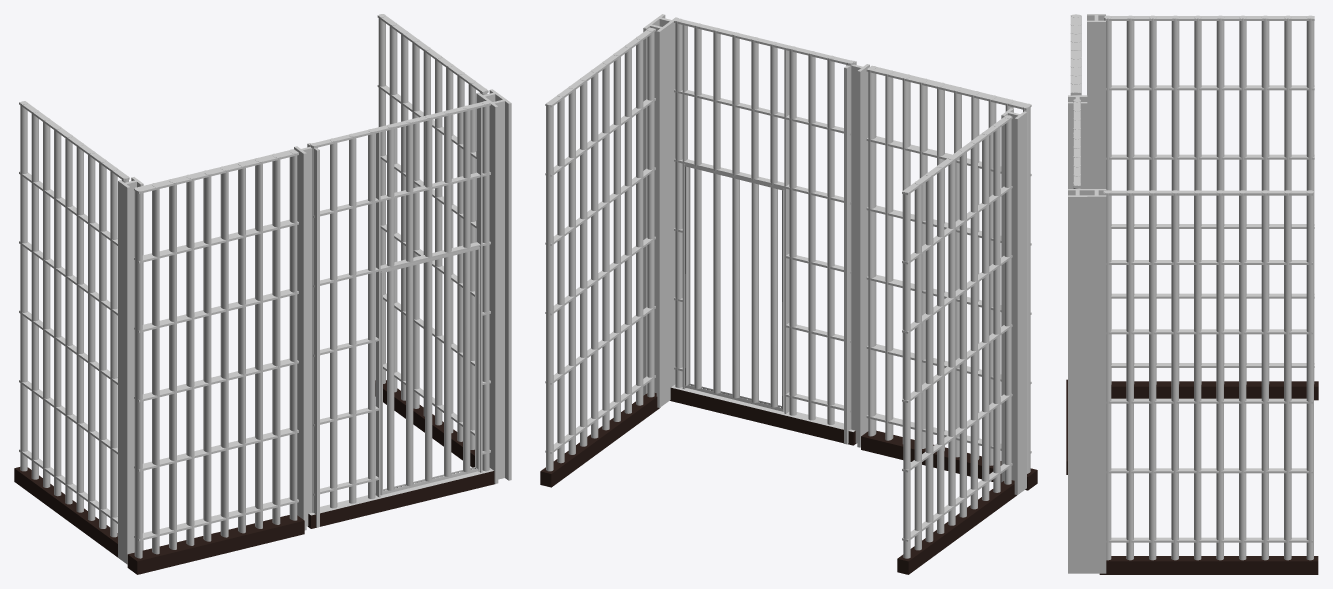
The model's file is Animated Final Door.fbx.
3 views of the same model, side by side, from view 1: azimuth 30°, elevation 25°; view 2: azimuth 150°, elevation 25°; view 3: azimuth 270°, elevation 25° (orthographic).
Parts seen in each view (by area): view 1: Bars, Cylinder.018; view 2: Bars, Cylinder.018; view 3: Bars.
Part boxes in pixels (x1,y1,x2,y2): Bars: (14,14,511,574); Cylinder.018: (380,247,480,495); Bars: (540,14,1037,574); Cylinder.018: (684,164,784,411); Bars: (1066,14,1318,574).
Size of the model in its own units: 1488 by 1448 by 867.
